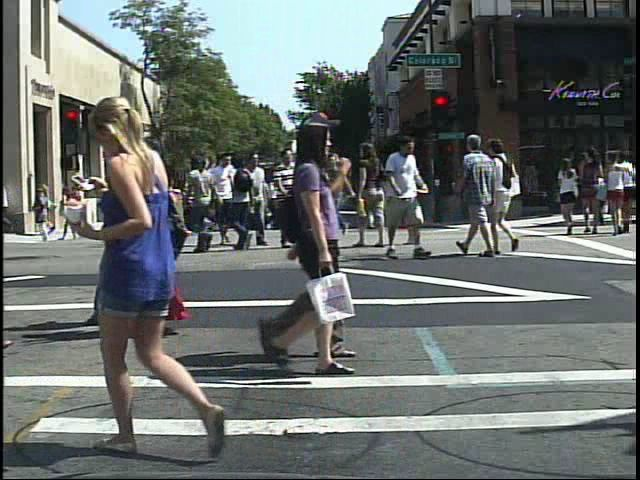person: (77, 83, 248, 472), (247, 118, 359, 380), (123, 134, 208, 343), (305, 106, 369, 367), (87, 128, 132, 330), (382, 135, 432, 262), (456, 127, 500, 264), (274, 146, 320, 253), (354, 135, 396, 252), (223, 150, 264, 261), (185, 145, 224, 258), (391, 144, 431, 250), (491, 133, 524, 256), (235, 148, 273, 254), (207, 151, 244, 253), (555, 152, 585, 236), (180, 171, 201, 239), (67, 182, 87, 232)
